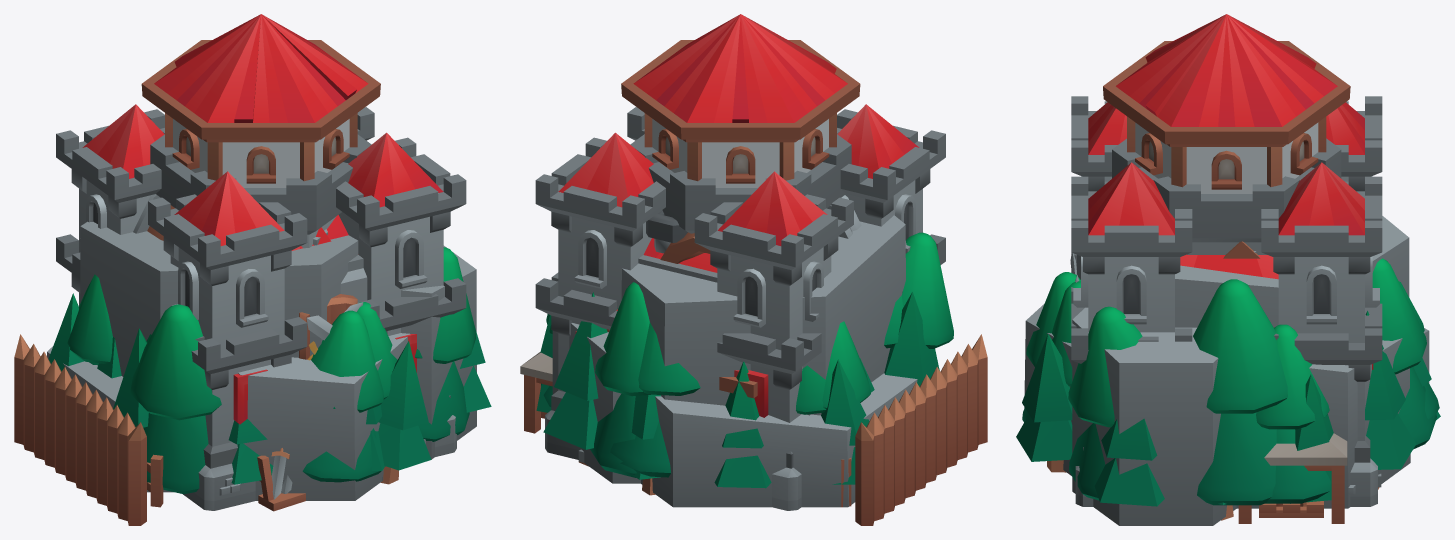
The model's file is village.glb.
The picture shows the model from 3 angles, left to right: view 1: azimuth 30°, elevation 25°; view 2: azimuth 150°, elevation 25°; view 3: azimuth 270°, elevation 25°; orthographic projection. The views are drawn at different scales.
Parts seen in each view (by area): view 1: building_barracks_red, mountain_A, building_tower_A_top_red, trees_B_large, fence_wood_straight, trees_A_large, building_tower_A_red, trees_B_medium, trees_A_medium, building_market_red; view 2: building_barracks_red, mountain_A, building_tower_A_top_red, fence_wood_straight, trees_A_large, trees_B_large, trees_B_medium, building_tower_A_red, building_market_red, building_tavern_red, building_home_B_red; view 3: building_barracks_red, building_tower_A_top_red, mountain_A, trees_B_medium, trees_A_large, trees_B_large, building_tower_A_red, building_market_red.
Boxes of the visible parts, <box> form: building_barracks_red: <box>56,104,466,511</box>; mountain_A: <box>47,221,476,500</box>; building_tower_A_top_red: <box>141,14,380,187</box>; trees_B_large: <box>67,247,476,494</box>; fence_wood_straight: <box>14,334,146,525</box>; trees_A_large: <box>48,293,491,484</box>; building_tower_A_red: <box>150,134,371,248</box>; trees_B_medium: <box>146,302,397,399</box>; trees_A_medium: <box>97,337,385,470</box>; building_market_red: <box>147,454,163,507</box>; building_barracks_red: <box>535,104,945,510</box>; mountain_A: <box>552,215,917,507</box>; building_tower_A_top_red: <box>621,14,860,187</box>; fence_wood_straight: <box>855,334,987,525</box>; trees_A_large: <box>536,292,939,495</box>; trees_B_large: <box>541,232,953,477</box>; trees_B_medium: <box>590,282,902,477</box>; building_tower_A_red: <box>630,134,851,233</box>; building_market_red: <box>520,309,851,507</box>; building_tavern_red: <box>660,195,861,263</box>; building_home_B_red: <box>646,210,687,253</box>; building_barracks_red: <box>1070,96,1382,506</box>; building_tower_A_top_red: <box>1103,14,1350,193</box>; mountain_A: <box>1024,216,1429,525</box>; trees_B_medium: <box>1052,258,1436,505</box>; trees_A_large: <box>1016,311,1440,520</box>; trees_B_large: <box>1022,272,1439,506</box>; building_tower_A_red: <box>1112,138,1341,252</box>; building_market_red: <box>1238,433,1381,523</box>.
Bounding box in the file's own units: 2.03 × 2.29 × 1.97.
33 materials, 33 textured.
